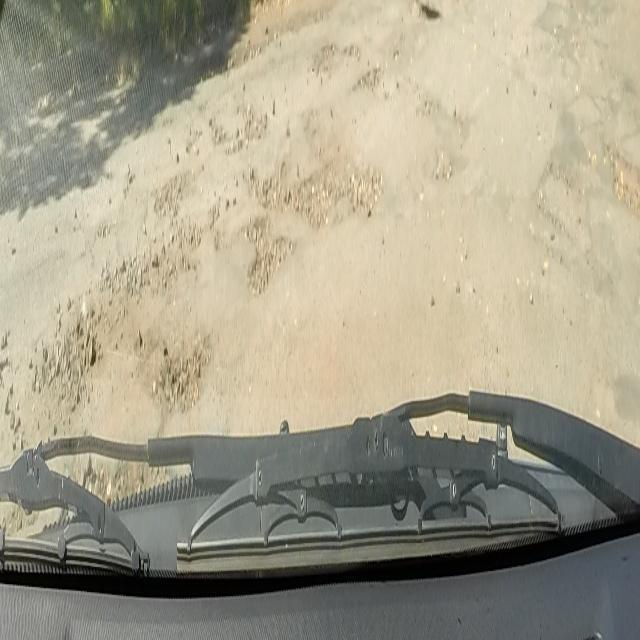pothole: (239, 148, 382, 293), (28, 306, 100, 422), (154, 322, 216, 419), (313, 42, 387, 101), (601, 138, 640, 215), (219, 104, 270, 154)
